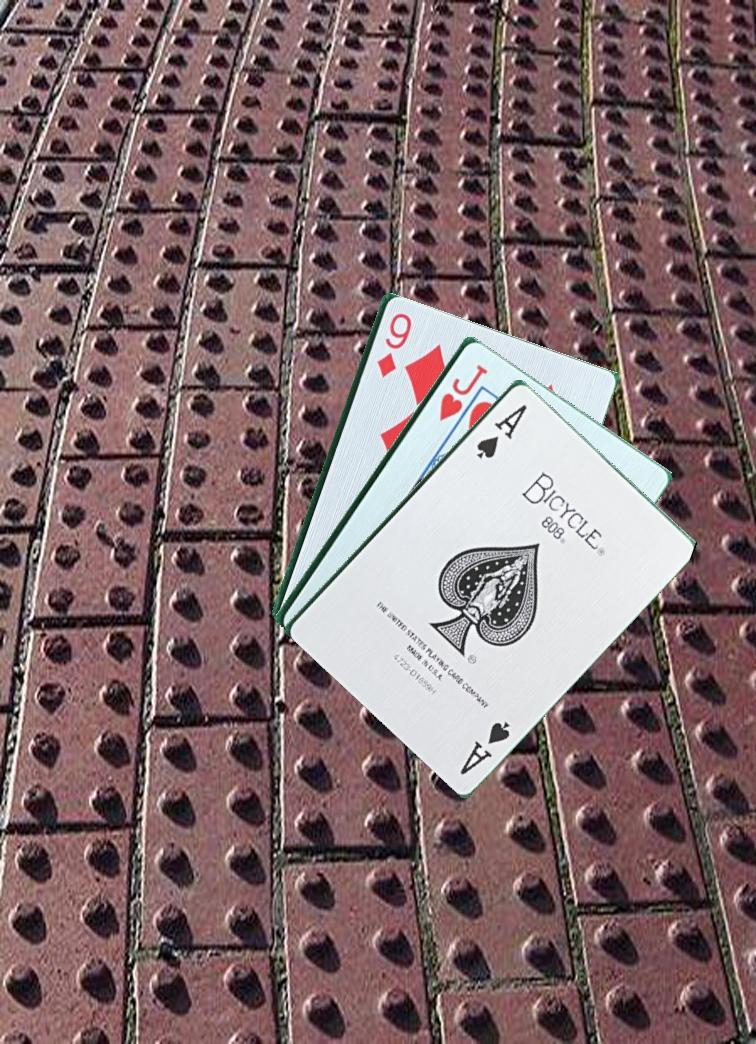9d: (373, 308, 414, 380)
as: (456, 716, 515, 778), (472, 400, 531, 461)
jh: (435, 360, 489, 424)
